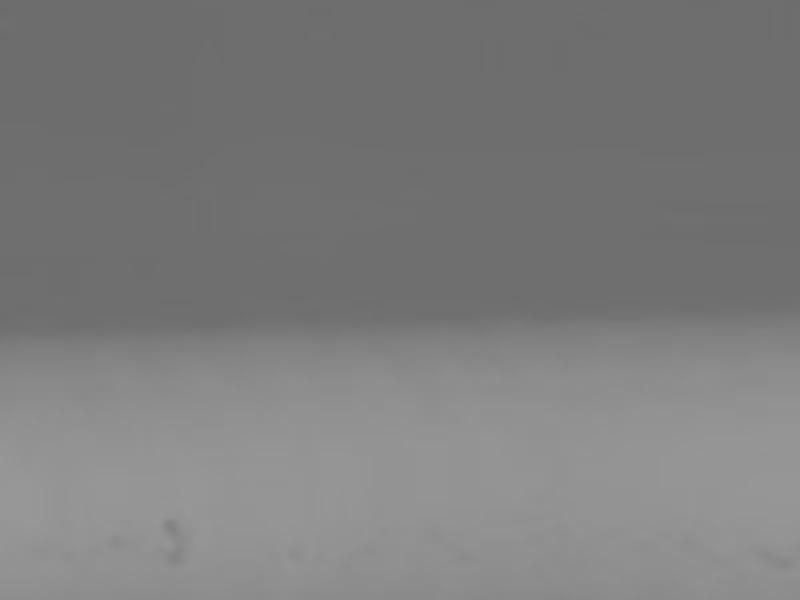defect: (164, 545, 183, 564), (163, 514, 181, 532), (109, 529, 125, 545)
